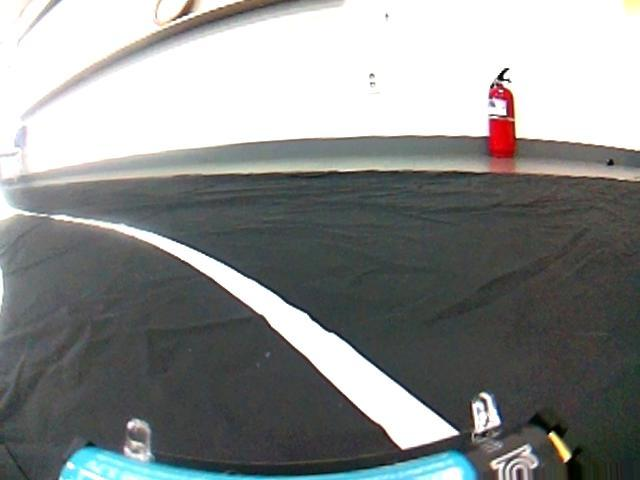left: (0, 187, 609, 479)
